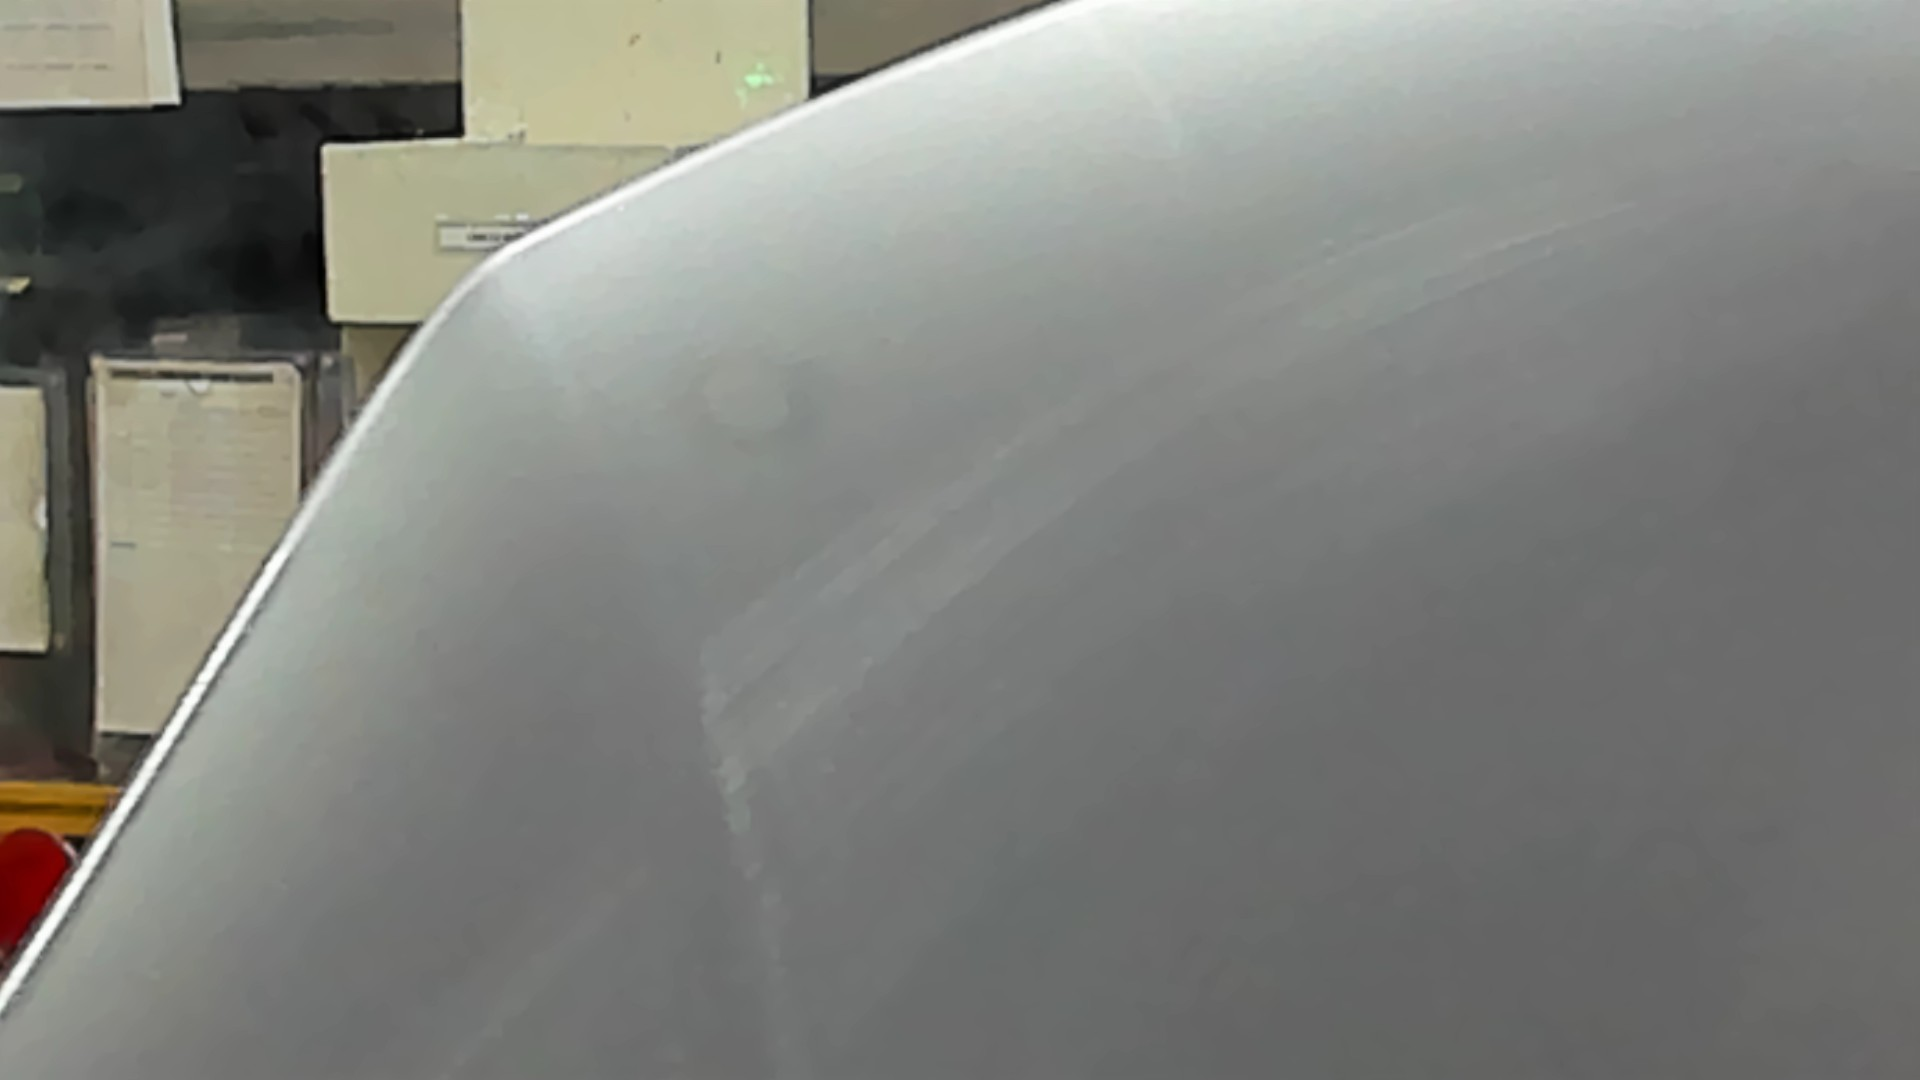capo: (732, 161, 1920, 1080)
